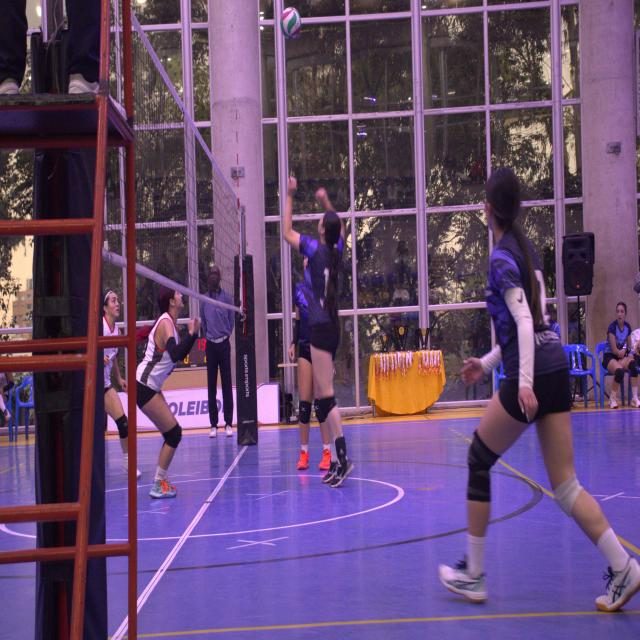volleyball: (280, 7, 301, 40)
